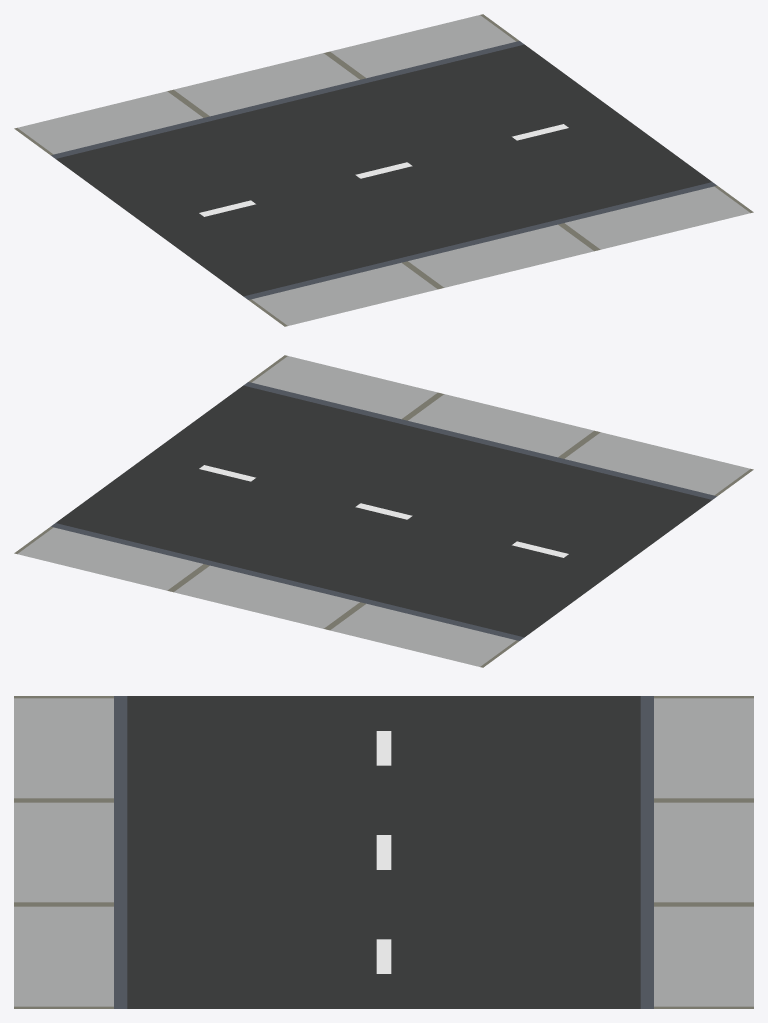
The model's file is road block1.FBX.
3 views of the same model, one above another, from view 1: azimuth 30°, elevation 25°; view 2: azimuth 150°, elevation 25°; view 3: azimuth 270°, elevation 25° (orthographic). The views are drawn at different scales.
Visible parts, largest first — view 1: road block1; view 2: road block1; view 3: road block1.
Boxes of the visible parts, bbox=[...] form: road block1: bbox=[14, 14, 753, 326]; road block1: bbox=[14, 355, 753, 667]; road block1: bbox=[14, 696, 753, 1008].
Bounding box in the file's own units: 20 × 8.74e-07 × 20.
